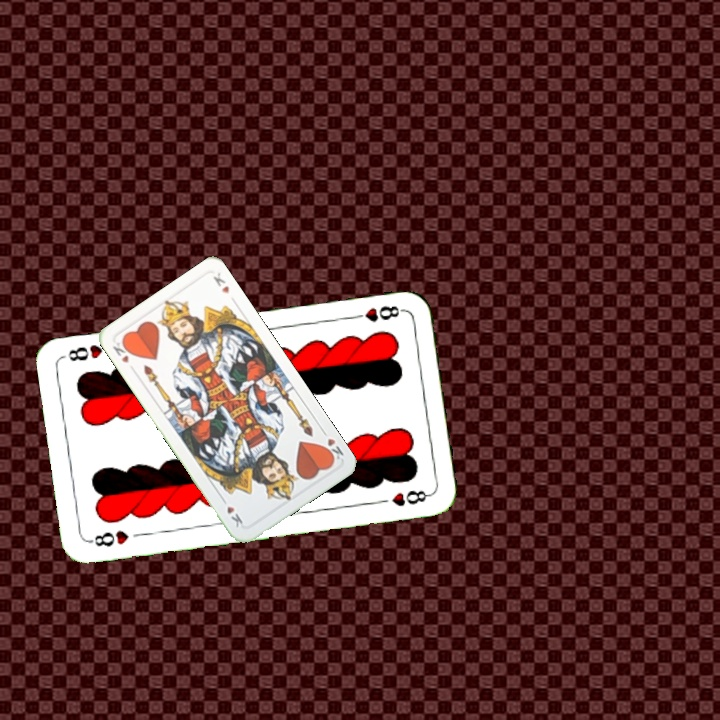H8: (347, 301, 406, 324), (85, 526, 132, 550)
HK: (318, 425, 346, 464), (108, 335, 135, 366)
